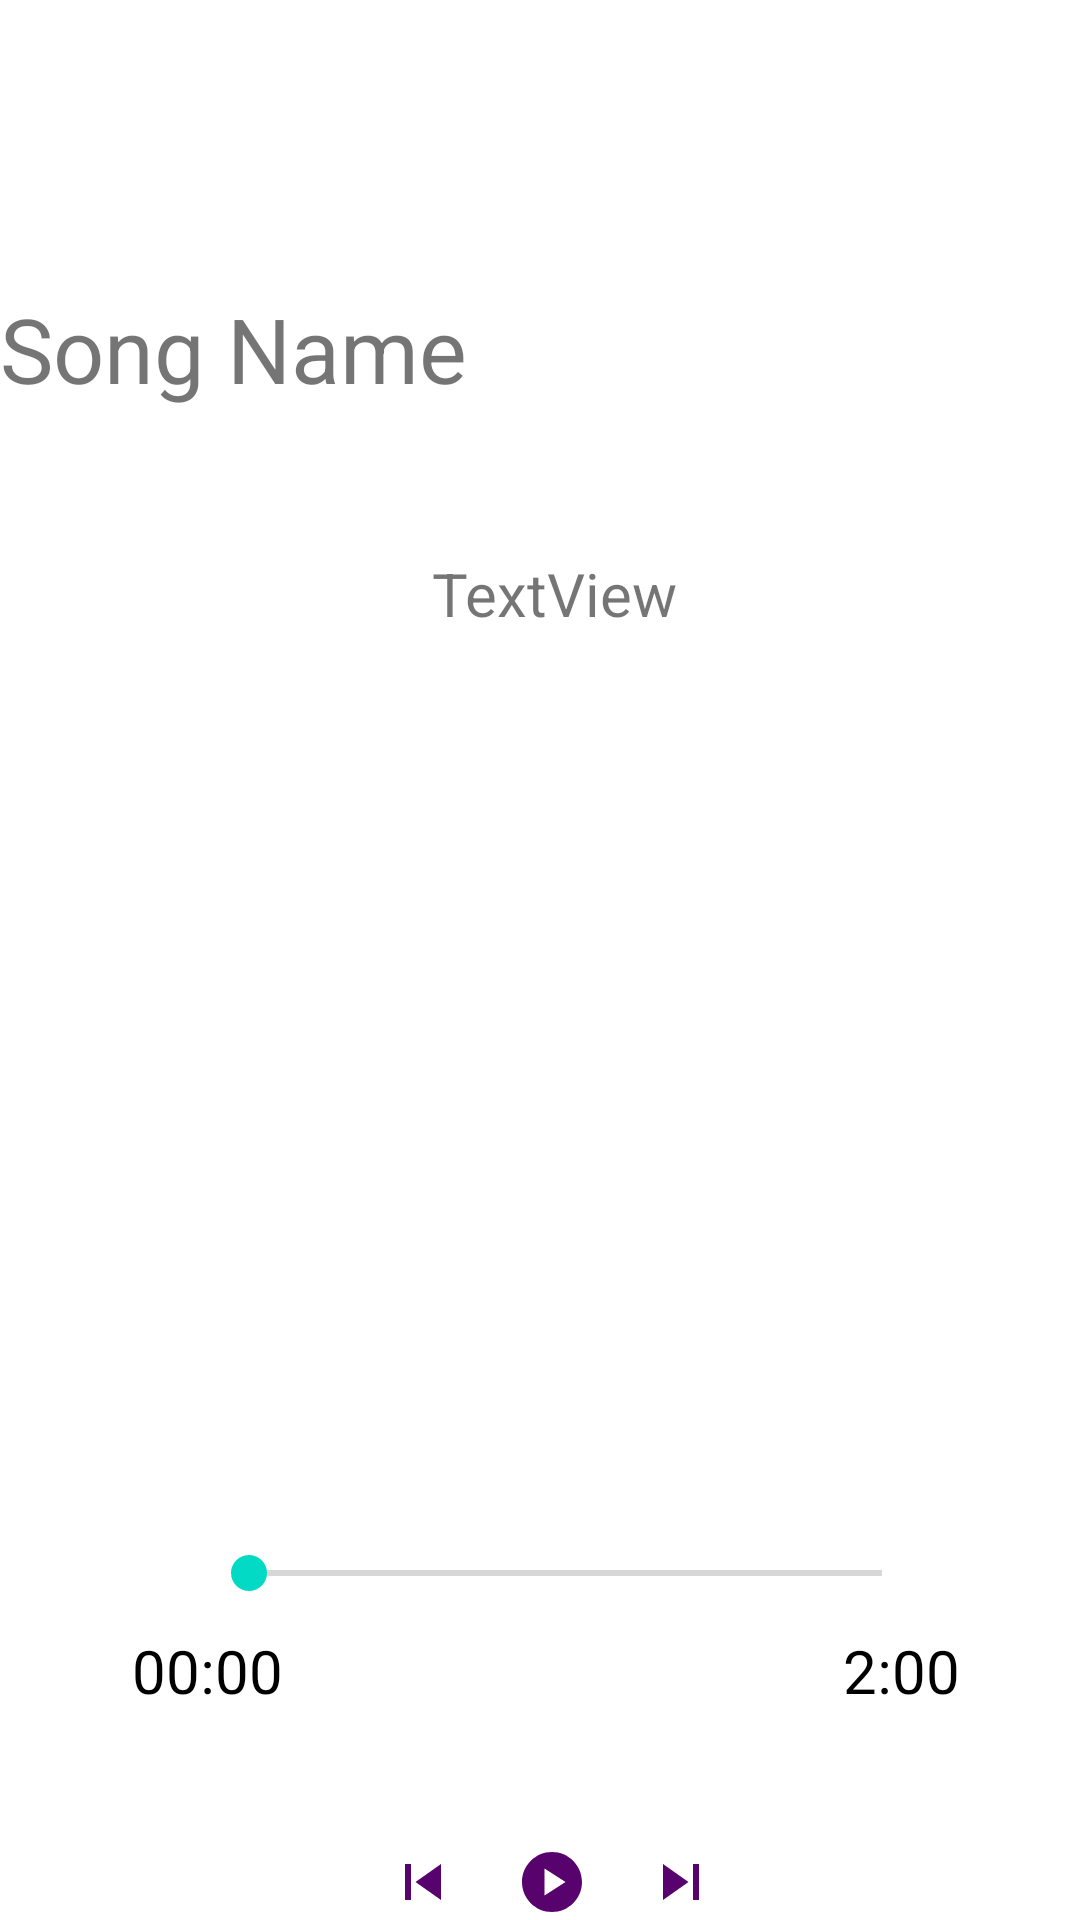

Icon click points for this 1080 × 1920 phone screenshot, format (x=x, y=y):
play circle: (x=552, y=1882)
skip next: (x=681, y=1882)
skip previous: (x=423, y=1882)
